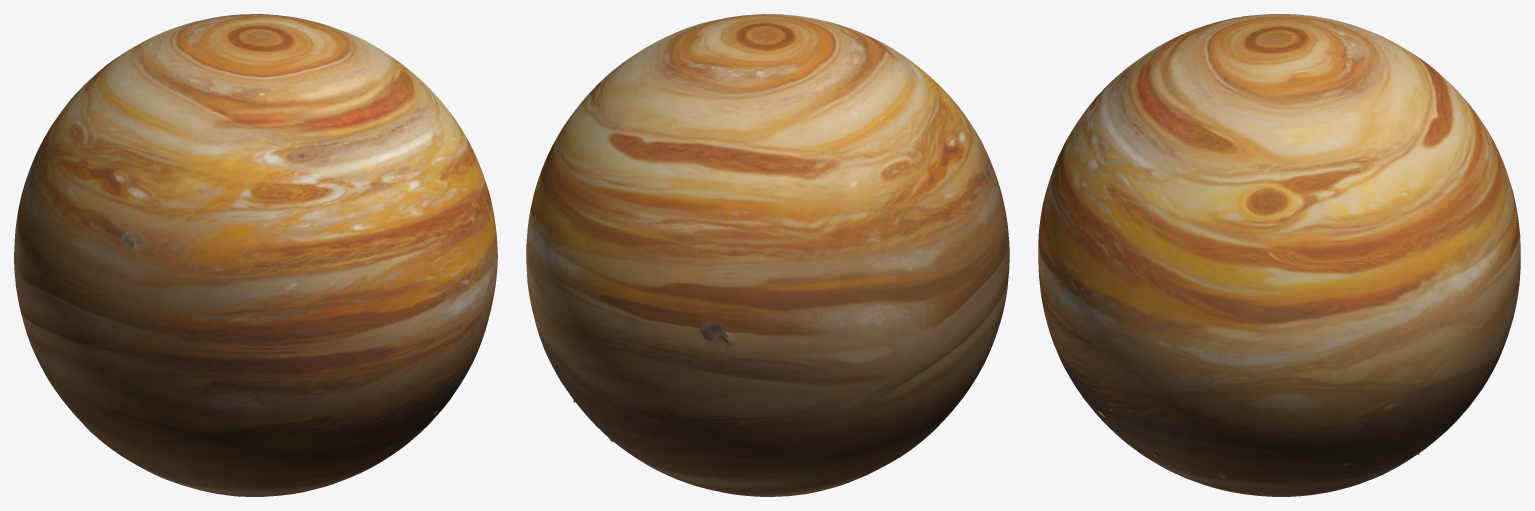
File: gas_planet_2.glb
3 renders of one model, left to right at view 1: azimuth 30°, elevation 25°; view 2: azimuth 150°, elevation 25°; view 3: azimuth 270°, elevation 25°, orthographic.
Visible parts, largest first — view 1: Mesh_0.021; view 2: Mesh_0.021; view 3: Mesh_0.021.
Part boxes in pixels (x1,y1,x2,y2): Mesh_0.021: [14, 14, 497, 496]; Mesh_0.021: [526, 14, 1009, 496]; Mesh_0.021: [1038, 14, 1520, 496].
Size of the model in its own units: 2 by 2 by 2.
1 material, 1 textured.
